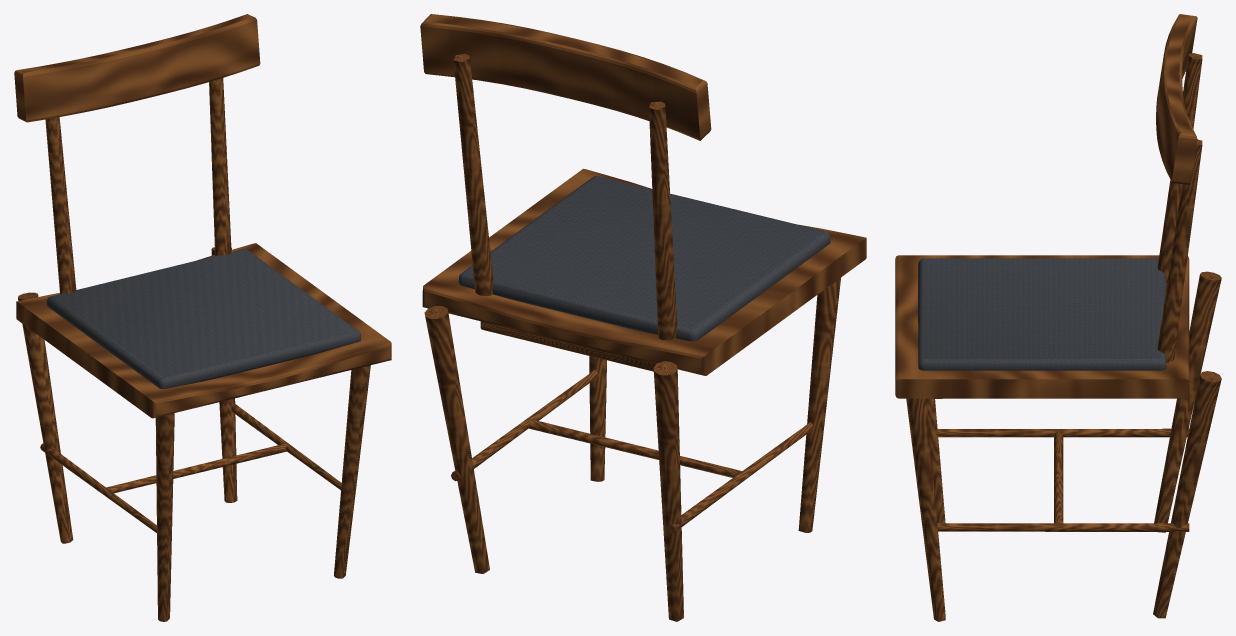
Rendered from dining_chair.glb.
3 renders of one model, left to right at view 1: azimuth 30°, elevation 25°; view 2: azimuth 150°, elevation 25°; view 3: azimuth 270°, elevation 25°, orthographic. The views are drawn at different scales.
Parts seen in each view (by area): view 1: Kumas_Minder, Sirt_Citasi, Ahsap_Oturak, Ayak_Arka_Sol, Ayak_On_Sag, Ayak_On_Sol, Sirt_Cubuk_Sol, Sirt_Cubuk_Sag, Ayak_Arka_Sag, Baglanti_Cita_Orta, Baglanti_Cita_Sol, Baglanti_Cita_Sag; view 2: Kumas_Minder, Ahsap_Oturak, Sirt_Citasi, Ayak_Arka_Sag, Ayak_Arka_Sol, Ayak_On_Sol, Sirt_Cubuk_Sag, Sirt_Cubuk_Sol, Baglanti_Cita_Orta, Ayak_On_Sag, Baglanti_Cita_Sol, Kasa_Arka (+1 smaller); view 3: Kumas_Minder, Ahsap_Oturak, Sirt_Citasi, Ayak_Arka_Sag, Ayak_Arka_Sol, Ayak_On_Sag, Sirt_Cubuk_Sag, Baglanti_Cita_Sag, Sirt_Cubuk_Sol, Baglanti_Cita_Sol, Ayak_On_Sol, Baglanti_Cita_Orta.
Boxes of the visible parts, x1,y1,x2,y2 form: Kumas_Minder: [47, 249, 360, 388]; Sirt_Citasi: [14, 14, 260, 122]; Ahsap_Oturak: [16, 243, 391, 418]; Ayak_Arka_Sol: [18, 292, 73, 543]; Ayak_On_Sag: [334, 365, 370, 578]; Ayak_On_Sol: [155, 413, 174, 621]; Sirt_Cubuk_Sol: [45, 117, 76, 293]; Sirt_Cubuk_Sag: [209, 78, 231, 255]; Ayak_Arka_Sag: [211, 247, 237, 502]; Baglanti_Cita_Orta: [106, 443, 286, 493]; Baglanti_Cita_Sol: [40, 443, 156, 532]; Baglanti_Cita_Sag: [231, 403, 341, 489]; Kumas_Minder: [459, 176, 830, 341]; Ahsap_Oturak: [422, 168, 866, 375]; Sirt_Citasi: [420, 14, 711, 140]; Ayak_Arka_Sag: [424, 306, 489, 573]; Ayak_Arka_Sol: [653, 361, 683, 621]; Ayak_On_Sol: [798, 278, 840, 532]; Sirt_Cubuk_Sag: [453, 54, 493, 296]; Sirt_Cubuk_Sol: [649, 101, 677, 340]; Baglanti_Cita_Orta: [528, 419, 742, 477]; Ayak_On_Sag: [589, 356, 606, 481]; Baglanti_Cita_Sol: [666, 422, 814, 533]; Kasa_Arka: [480, 321, 655, 371]; Kumas_Minder: [918, 258, 1166, 370]; Ahsap_Oturak: [895, 255, 1189, 398]; Sirt_Citasi: [1156, 14, 1197, 184]; Ayak_Arka_Sag: [1153, 371, 1221, 618]; Ayak_Arka_Sol: [1154, 271, 1221, 532]; Ayak_On_Sag: [906, 398, 945, 621]; Sirt_Cubuk_Sag: [1157, 139, 1202, 362]; Baglanti_Cita_Sag: [937, 523, 1189, 531]; Sirt_Cubuk_Sol: [1157, 53, 1202, 283]; Baglanti_Cita_Sol: [936, 428, 1189, 437]; Ayak_On_Sol: [926, 398, 945, 523]; Baglanti_Cita_Orta: [1054, 429, 1063, 523].
Bounding box in the file's own units: 0.45 × 0.8474 × 0.4996.
Materials: 2 (2 with a texture image).
